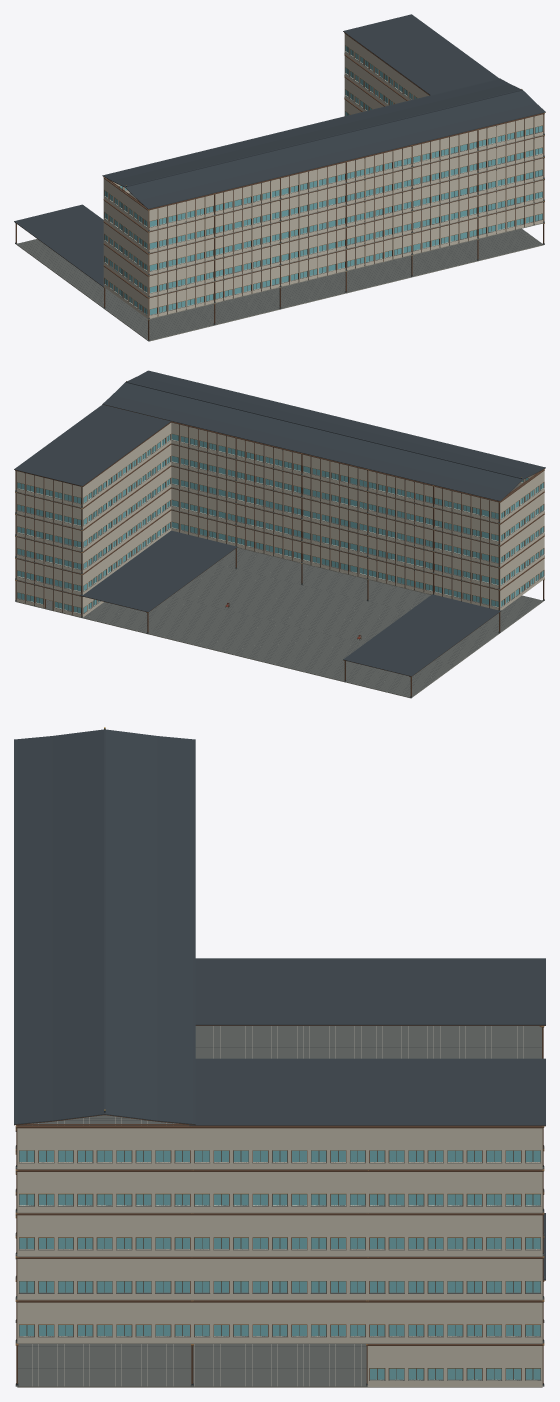
Rendered from visual-far.glb.
3 views of the same model, one above another, from view 1: azimuth 30°, elevation 25°; view 2: azimuth 150°, elevation 25°; view 3: azimuth 270°, elevation 25° (orthographic). The views are drawn at different scales.
Visible parts, largest first — view 1: 参数墙 · 独立窗玻璃 (×39), 连续屋面 · gable, 石铺面与混凝土楼板 (×8), 连续屋面 · flat (×2); view 2: 参数墙 · 独立窗玻璃 (×45), 石铺面与混凝土楼板 (×15), 连续屋面 · gable, 连续屋面 · flat (×3), 参数墙 · 通行门洞; view 3: 参数墙 · 独立窗玻璃 (×16), 连续屋面 · gable, 连续屋面 · flat (×2), 石铺面与混凝土楼板 (×5).
Part boxes in pixels (<box>): 参数墙 · 独立窗玻璃 (×39): <box>103,33,543,318</box>; 连续屋面 · gable: <box>102,78,545,209</box>; 石铺面与混凝土楼板 (×8): <box>16,228,543,341</box>; 连续屋面 · flat (×2): <box>14,14,499,287</box>; 参数墙 · 独立窗玻璃 (×45): <box>16,421,544,610</box>; 石铺面与混凝土楼板 (×15): <box>82,548,543,698</box>; 连续屋面 · gable: <box>102,370,545,501</box>; 连续屋面 · flat (×3): <box>14,404,501,676</box>; 参数墙 · 通行门洞: <box>16,580,81,616</box>; 参数墙 · 独立窗玻璃 (×16): <box>17,1126,542,1386</box>; 连续屋面 · gable: <box>14,727,195,1125</box>; 连续屋面 · flat (×2): <box>189,958,545,1126</box>; 石铺面与混凝土楼板 (×5): <box>17,1026,541,1387</box>.
Bounding box in the file's own units: 114 × 38.28 × 66.4.
Materials: 15 (15 with a texture image).
